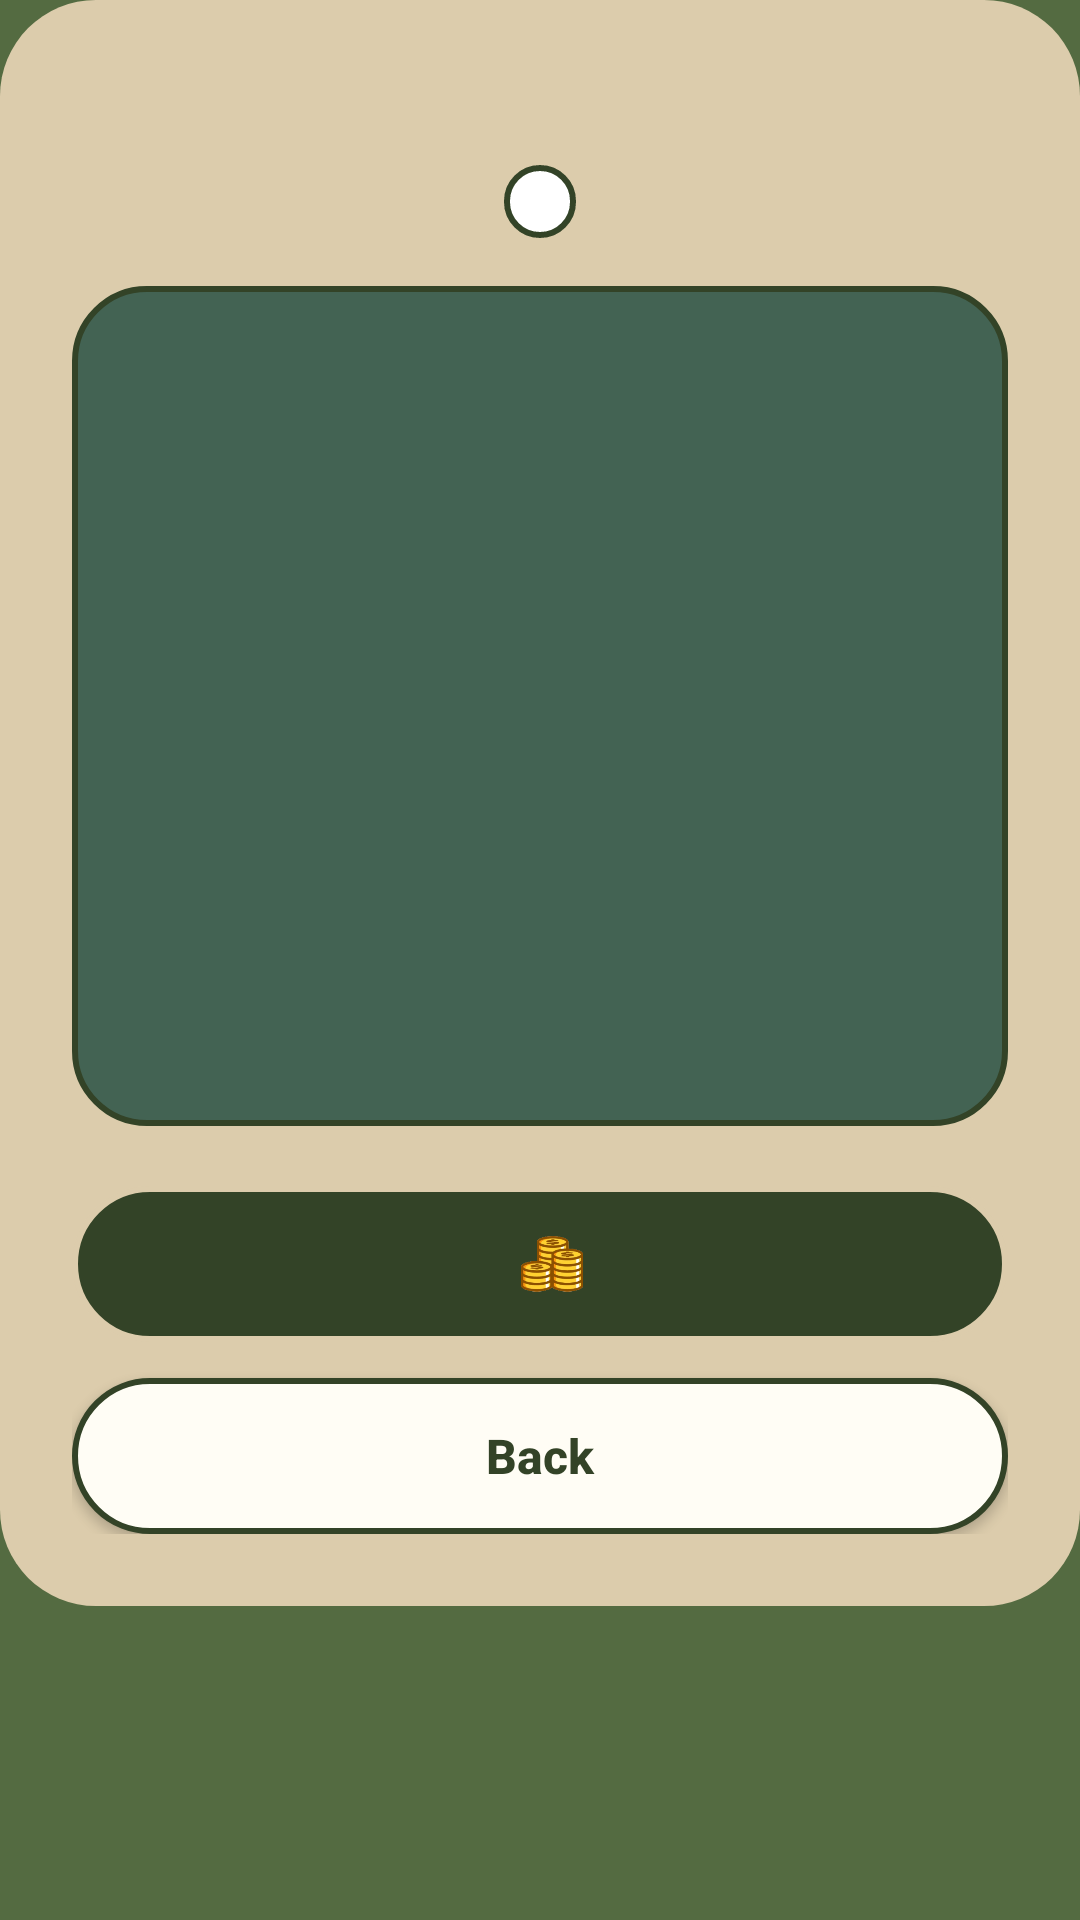

Where icons sit on this 1080x1920 app screen, as detection(x1, y1, x2, y2):
Coins: detection(521, 1236, 583, 1292)
